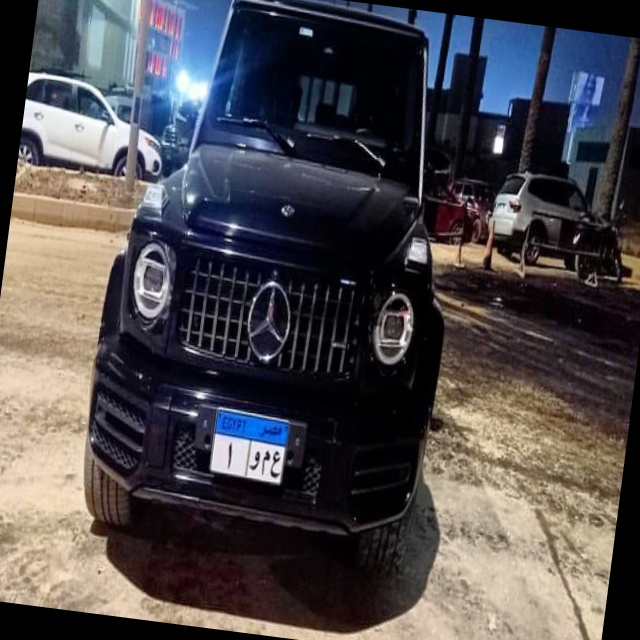License Plate: (205, 406, 292, 490)
